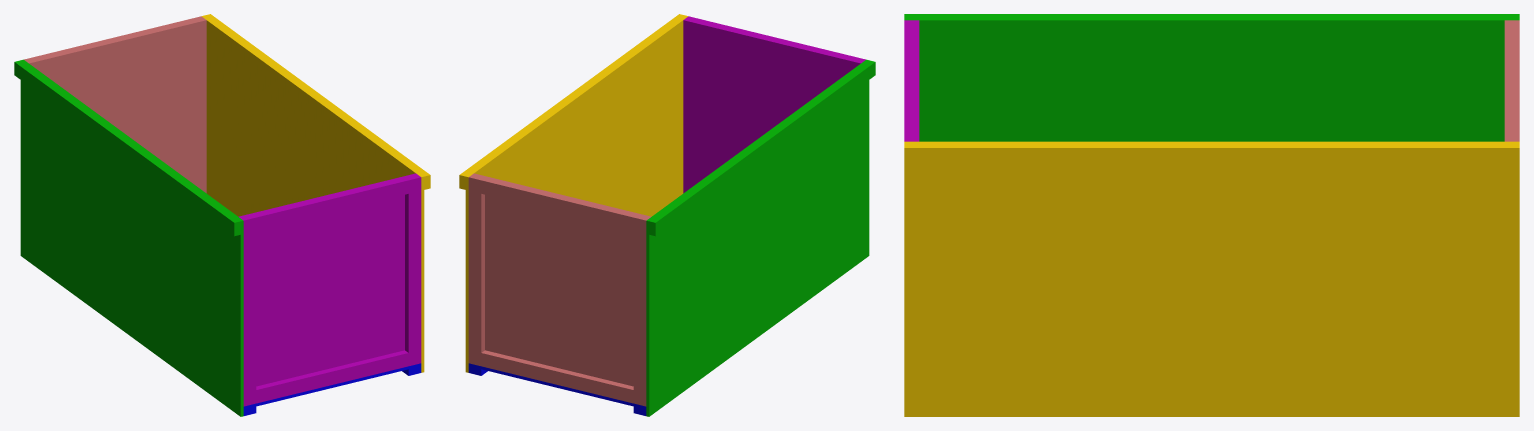
Rendered from result.glb.
3 renders of one model, left to right at view 1: azimuth 30°, elevation 25°; view 2: azimuth 150°, elevation 25°; view 3: azimuth 270°, elevation 25°, orthographic. The views are drawn at different scales.
Visible parts, largest first — view 1: f12a4614-5646-4831-9c76-009638a3c988__Box_6, 5871b596-62c1-4bb4-8d41-330b24fe3838__Box_3, 456b2ffa-7f53-4330-8818-cabecdb2981c__undefined, 0c9d81cd-4ca2-40f7-9875-7c9e621658a9__undefined, 4e955f33-5ac2-4bf0-8ee6-79c1dc7e282d__Box_7, c0e858c6-43f8-4526-97e7-9d6e5523ec2b__undefined, 1115761f-d336-4654-83f7-2b50a715b82a__undefined, a286b260-3558-4d70-8326-2b0e34a8a151__Box_5, faeee70f-725c-487f-af80-addf43a9d9fc__Box_4, a94dc5b1-2527-4a65-9f04-1735d4b50d12__undefined, 536d1c90-762c-4ce7-a410-6000f5035235__undefined, 751d36d8-8304-4c42-af2f-f3ff3fb03c28__Box; view 2: f12a4614-5646-4831-9c76-009638a3c988__Box_6, 0c9d81cd-4ca2-40f7-9875-7c9e621658a9__undefined, 456b2ffa-7f53-4330-8818-cabecdb2981c__undefined, 5871b596-62c1-4bb4-8d41-330b24fe3838__Box_3, 4e955f33-5ac2-4bf0-8ee6-79c1dc7e282d__Box_7, 4c1b91f1-0ad6-45cd-b9f5-1431a96997a2__undefined, 536d1c90-762c-4ce7-a410-6000f5035235__undefined, 0551300b-d63a-41c7-b5dd-4dd619114fd9__undefined, 43b7794c-e328-4ff5-941f-be0ccf71684f__undefined, a94dc5b1-2527-4a65-9f04-1735d4b50d12__undefined, 1115761f-d336-4654-83f7-2b50a715b82a__undefined, 751d36d8-8304-4c42-af2f-f3ff3fb03c28__Box; view 3: 456b2ffa-7f53-4330-8818-cabecdb2981c__undefined, f12a4614-5646-4831-9c76-009638a3c988__Box_6, a94dc5b1-2527-4a65-9f04-1735d4b50d12__undefined, 4e955f33-5ac2-4bf0-8ee6-79c1dc7e282d__Box_7, 1115761f-d336-4654-83f7-2b50a715b82a__undefined, 536d1c90-762c-4ce7-a410-6000f5035235__undefined, 5871b596-62c1-4bb4-8d41-330b24fe3838__Box_3, 0c9d81cd-4ca2-40f7-9875-7c9e621658a9__undefined.
Part boxes in pixels (box(x1,y1,x2,y2)): f12a4614-5646-4831-9c76-009638a3c988__Box_6: box(20, 59, 243, 416); 5871b596-62c1-4bb4-8d41-330b24fe3838__Box_3: box(238, 173, 417, 386); 456b2ffa-7f53-4330-8818-cabecdb2981c__undefined: box(201, 15, 424, 372); 0c9d81cd-4ca2-40f7-9875-7c9e621658a9__undefined: box(28, 19, 206, 193); 4e955f33-5ac2-4bf0-8ee6-79c1dc7e282d__Box_7: box(14, 60, 240, 236); c0e858c6-43f8-4526-97e7-9d6e5523ec2b__undefined: box(405, 174, 421, 365); 1115761f-d336-4654-83f7-2b50a715b82a__undefined: box(253, 177, 408, 230); a286b260-3558-4d70-8326-2b0e34a8a151__Box_5: box(256, 350, 408, 403); faeee70f-725c-487f-af80-addf43a9d9fc__Box_4: box(240, 215, 256, 406); a94dc5b1-2527-4a65-9f04-1735d4b50d12__undefined: box(204, 14, 430, 189); 536d1c90-762c-4ce7-a410-6000f5035235__undefined: box(36, 19, 191, 58); 751d36d8-8304-4c42-af2f-f3ff3fb03c28__Box: box(243, 363, 421, 409); f12a4614-5646-4831-9c76-009638a3c988__Box_6: box(646, 59, 869, 416); 0c9d81cd-4ca2-40f7-9875-7c9e621658a9__undefined: box(472, 173, 651, 386); 456b2ffa-7f53-4330-8818-cabecdb2981c__undefined: box(465, 15, 688, 372); 5871b596-62c1-4bb4-8d41-330b24fe3838__Box_3: box(683, 19, 861, 193); 4e955f33-5ac2-4bf0-8ee6-79c1dc7e282d__Box_7: box(649, 60, 875, 236); 4c1b91f1-0ad6-45cd-b9f5-1431a96997a2__undefined: box(468, 174, 484, 365); 536d1c90-762c-4ce7-a410-6000f5035235__undefined: box(481, 177, 636, 230); 0551300b-d63a-41c7-b5dd-4dd619114fd9__undefined: box(481, 350, 633, 403); 43b7794c-e328-4ff5-941f-be0ccf71684f__undefined: box(633, 215, 649, 406); a94dc5b1-2527-4a65-9f04-1735d4b50d12__undefined: box(459, 14, 685, 189); 1115761f-d336-4654-83f7-2b50a715b82a__undefined: box(698, 19, 853, 58); 751d36d8-8304-4c42-af2f-f3ff3fb03c28__Box: box(468, 363, 646, 409); 456b2ffa-7f53-4330-8818-cabecdb2981c__undefined: box(904, 141, 1519, 416); f12a4614-5646-4831-9c76-009638a3c988__Box_6: box(904, 18, 1519, 141); a94dc5b1-2527-4a65-9f04-1735d4b50d12__undefined: box(904, 143, 1519, 166); 4e955f33-5ac2-4bf0-8ee6-79c1dc7e282d__Box_7: box(904, 14, 1519, 18); 1115761f-d336-4654-83f7-2b50a715b82a__undefined: box(904, 29, 914, 132); 536d1c90-762c-4ce7-a410-6000f5035235__undefined: box(1509, 29, 1519, 132); 5871b596-62c1-4bb4-8d41-330b24fe3838__Box_3: box(914, 20, 919, 141); 0c9d81cd-4ca2-40f7-9875-7c9e621658a9__undefined: box(1504, 20, 1509, 141).
Size of the model in its own units: 552 by 526 by 1072.
